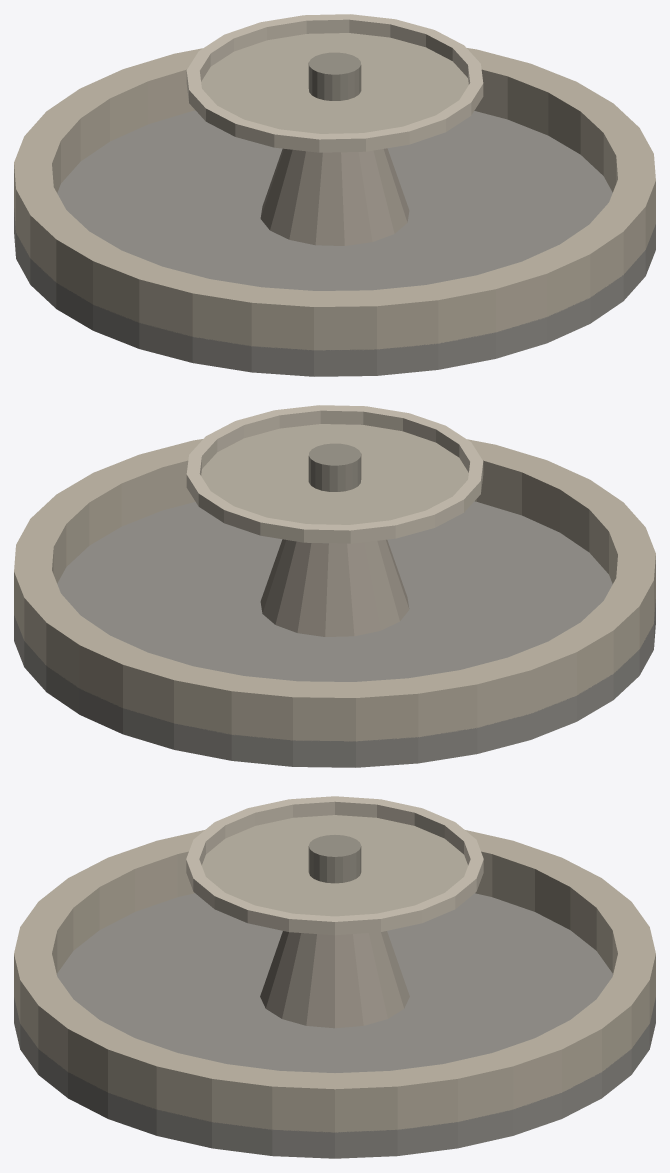
File: TC_DryFountain.glb
3 views of the same model, one above another, from view 1: azimuth 30°, elevation 25°; view 2: azimuth 150°, elevation 25°; view 3: azimuth 270°, elevation 25° (orthographic).
Visible parts, largest first — view 1: TC_DryFountain; view 2: TC_DryFountain; view 3: TC_DryFountain.
Part boxes in pixels (x1,y1,x2,y2): TC_DryFountain: [14, 14, 655, 376]; TC_DryFountain: [14, 405, 655, 767]; TC_DryFountain: [14, 796, 655, 1158].
Size of the model in its own units: 22 by 6.7 by 22.
1 material, 1 textured.
